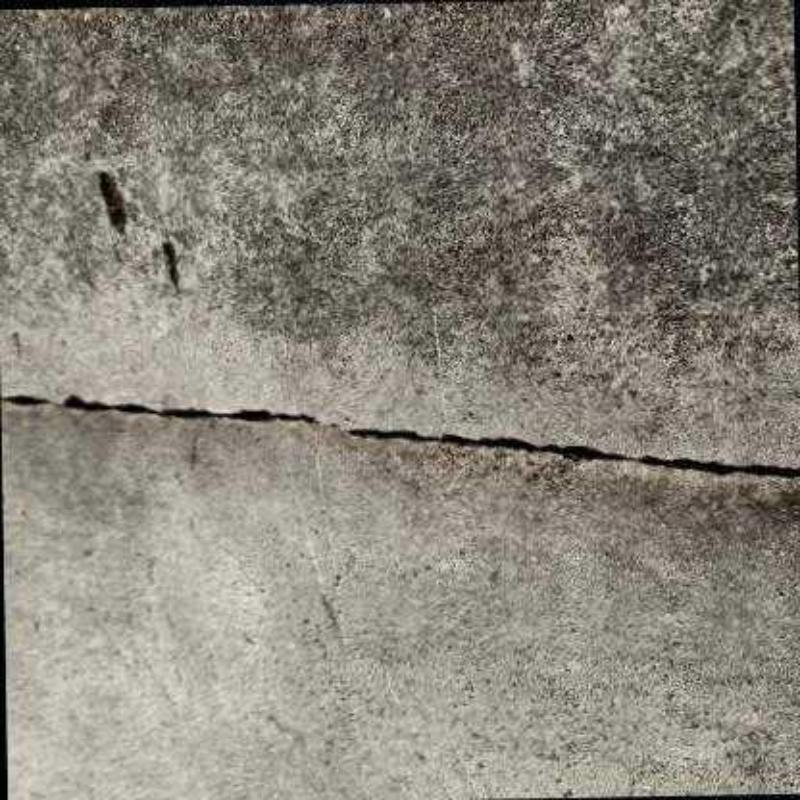pothole: (0, 394, 798, 480)
